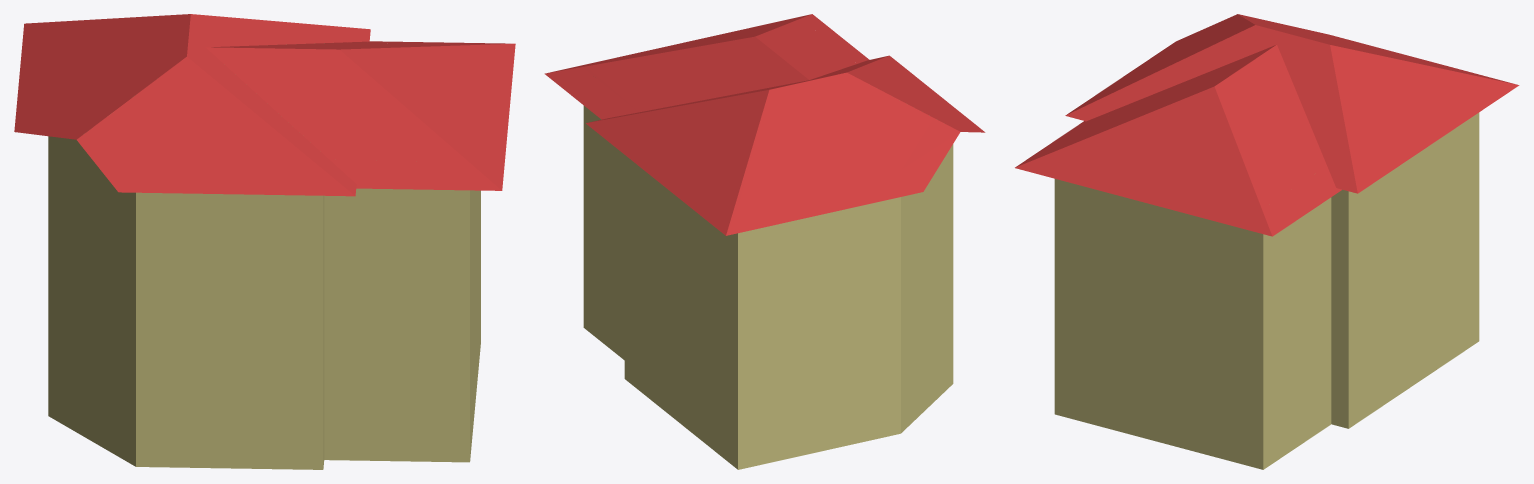
The picture shows the model from 3 angles, left to right: view 1: azimuth 30°, elevation 25°; view 2: azimuth 150°, elevation 25°; view 3: azimuth 270°, elevation 25°; orthographic projection. The views are drawn at different scales.
Parts seen in each view (by area): view 1: group_6, group_3, group_10, group_8, group_9, group_5; view 2: group_6, group_3, group_8, group_10, group_5, group_9; view 3: group_10, group_6, group_8, group_3, group_9, group_5.
Boxes of the visible parts, x1,y1,x2,y2 form: group_6: (48,43,357,469); group_3: (14,14,369,196); group_10: (357,188,480,462); group_8: (206,41,515,190); group_9: (330,41,514,190); group_5: (15,22,370,196); group_6: (624,144,953,469); group_3: (586,55,985,235); group_8: (545,14,869,119); group_10: (583,105,624,360); group_5: (589,56,981,235); group_9: (544,14,868,117); group_10: (1054,179,1315,469); group_6: (1315,112,1479,434); group_8: (1015,44,1341,236); group_3: (1065,14,1519,193); group_9: (1015,108,1335,236); group_5: (1067,15,1517,193).
Size of the model in its own units: 16.16 by 17.24 by 11.96.
